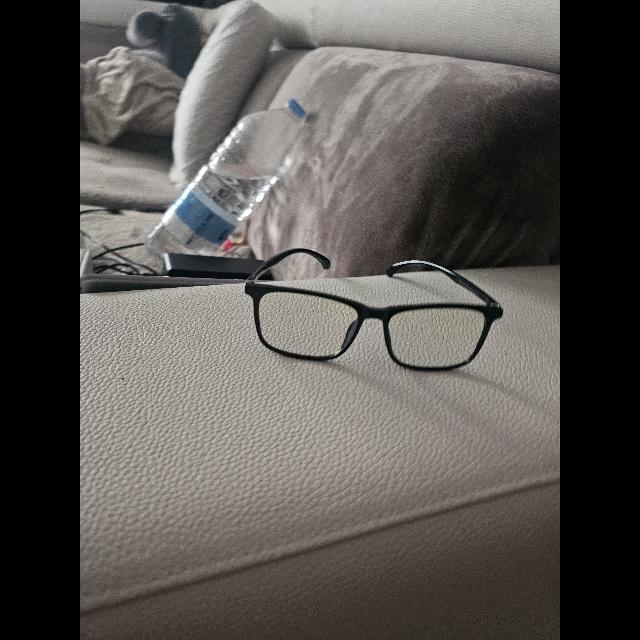glasses: (245, 248, 503, 370)
